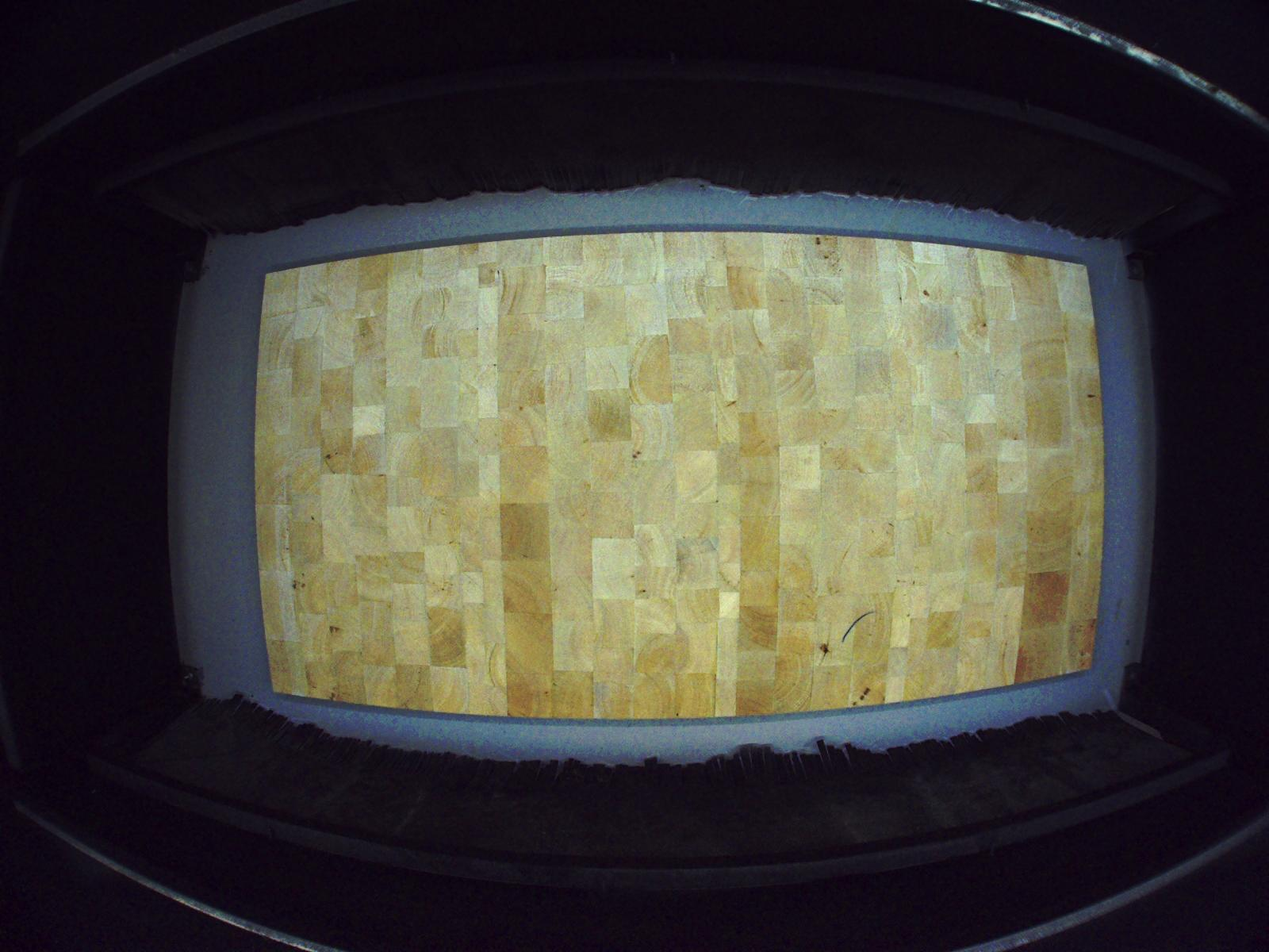sheck_ecuatoriano: (817, 620, 834, 666)
